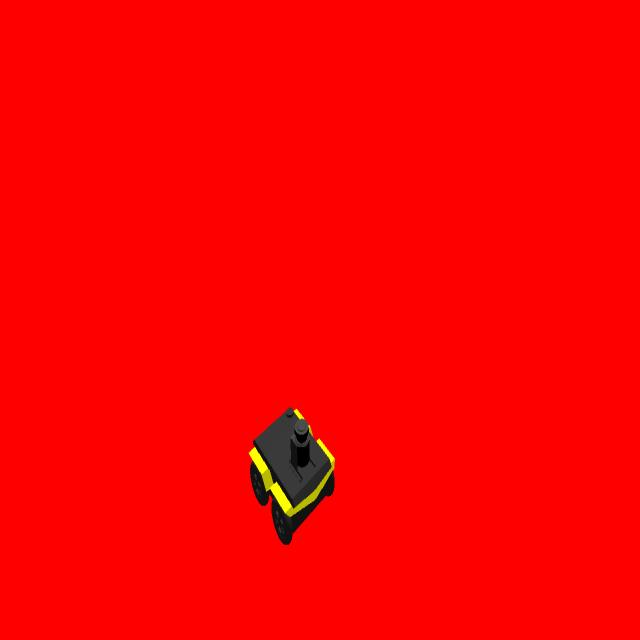jackal: (248, 403, 336, 547)
